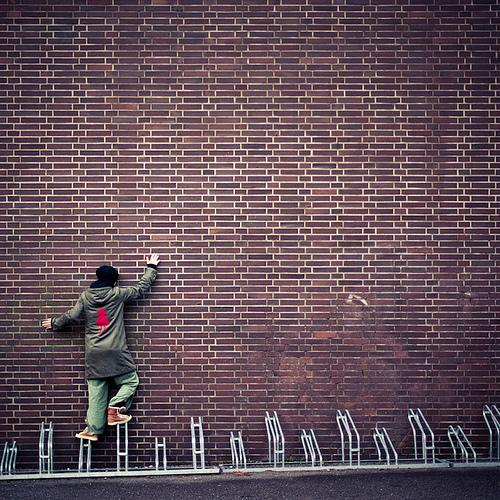person: (39, 254, 164, 443)
